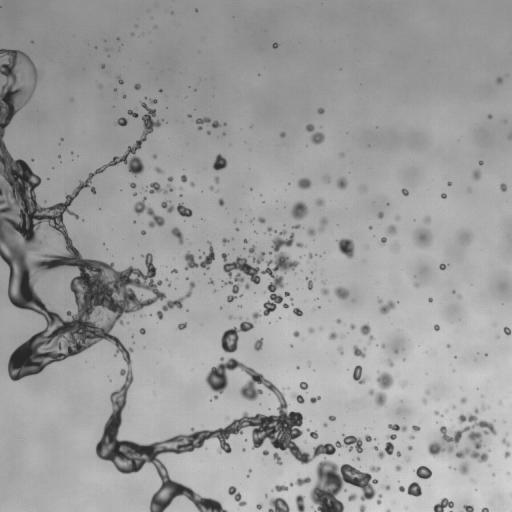droplet: (221, 230, 298, 315), (309, 458, 377, 511), (440, 408, 496, 462), (368, 372, 393, 406), (184, 241, 214, 269), (374, 434, 396, 458), (414, 228, 432, 247), (337, 238, 354, 258), (268, 497, 289, 511), (291, 202, 308, 219), (433, 498, 453, 511), (378, 299, 394, 314), (353, 365, 365, 384), (213, 154, 227, 170), (415, 466, 431, 479), (407, 482, 421, 496), (334, 286, 348, 299), (311, 132, 324, 144), (297, 178, 311, 189), (295, 494, 304, 511), (459, 231, 471, 243), (353, 345, 365, 357), (251, 252, 264, 263), (291, 393, 304, 403), (337, 178, 347, 189), (273, 453, 282, 465), (307, 429, 318, 438), (459, 463, 468, 474), (274, 485, 288, 492), (254, 338, 262, 350), (117, 117, 127, 126), (387, 225, 396, 234), (293, 308, 302, 316), (310, 396, 320, 403), (252, 312, 260, 320), (348, 493, 356, 501), (473, 170, 480, 179), (299, 382, 308, 389), (370, 466, 380, 472), (306, 124, 314, 131), (307, 228, 315, 235), (178, 322, 186, 329), (503, 327, 511, 334), (464, 505, 473, 511), (316, 198, 323, 205), (329, 332, 336, 339), (365, 434, 372, 441), (387, 359, 393, 367), (412, 425, 420, 431), (155, 167, 162, 173), (181, 175, 187, 182), (500, 184, 506, 191), (402, 188, 408, 195), (258, 217, 265, 223), (380, 237, 386, 244), (439, 264, 446, 270), (359, 504, 365, 511), (296, 242, 304, 247), (249, 246, 254, 254), (496, 77, 502, 83), (322, 288, 328, 294), (293, 331, 299, 337), (460, 397, 466, 403), (504, 451, 510, 457), (395, 465, 401, 471), (383, 485, 390, 490), (149, 99, 157, 103), (118, 78, 123, 84), (134, 84, 140, 89), (317, 108, 323, 113), (218, 199, 223, 205), (378, 212, 383, 218), (222, 238, 228, 243), (244, 283, 249, 289), (434, 324, 439, 330), (140, 328, 145, 334), (262, 450, 268, 455), (398, 486, 404, 491), (328, 416, 335, 420), (481, 507, 488, 511), (272, 43, 277, 48), (280, 132, 285, 137), (130, 183, 135, 188), (441, 193, 446, 198), (256, 504, 261, 509), (168, 176, 172, 182), (293, 224, 299, 228), (171, 269, 177, 273), (308, 328, 314, 332), (425, 217, 429, 222), (209, 279, 213, 284), (350, 324, 354, 329), (339, 348, 343, 353), (422, 398, 426, 403), (409, 435, 414, 439), (190, 182, 194, 186), (267, 227, 271, 231), (141, 230, 145, 234), (428, 298, 432, 302), (336, 319, 340, 323), (213, 395, 217, 399), (408, 446, 412, 450), (396, 452, 400, 456), (215, 177, 218, 182), (479, 161, 483, 164), (325, 177, 328, 181), (244, 239, 247, 243), (394, 350, 398, 353), (488, 115, 491, 118), (153, 155, 156, 158), (448, 182, 451, 185), (133, 192, 136, 195), (395, 216, 398, 219), (309, 254, 312, 257), (415, 284, 418, 287), (323, 423, 326, 426), (386, 509, 390, 511), (101, 65, 104, 67), (188, 114, 190, 117), (207, 131, 209, 134), (210, 187, 213, 189), (369, 226, 371, 229), (229, 316, 232, 318), (382, 344, 384, 347), (447, 344, 449, 347), (426, 391, 429, 393), (195, 9, 197, 11), (159, 89, 161, 91), (123, 95, 125, 97), (236, 228, 238, 230), (240, 294, 242, 296), (290, 298, 292, 300), (482, 407, 484, 409), (357, 457, 359, 459), (248, 470, 250, 472)
ligament: (0, 49, 360, 511), (157, 281, 195, 319), (221, 321, 253, 352), (134, 197, 164, 227), (161, 201, 192, 217), (228, 486, 246, 506), (428, 442, 453, 456), (196, 117, 219, 130), (149, 182, 172, 193), (360, 324, 374, 341), (171, 227, 183, 244), (289, 477, 311, 486), (388, 424, 407, 431), (319, 218, 327, 231), (306, 277, 312, 289), (128, 110, 138, 117), (502, 438, 509, 446), (434, 410, 441, 416), (377, 494, 381, 504), (510, 134, 511, 138)
